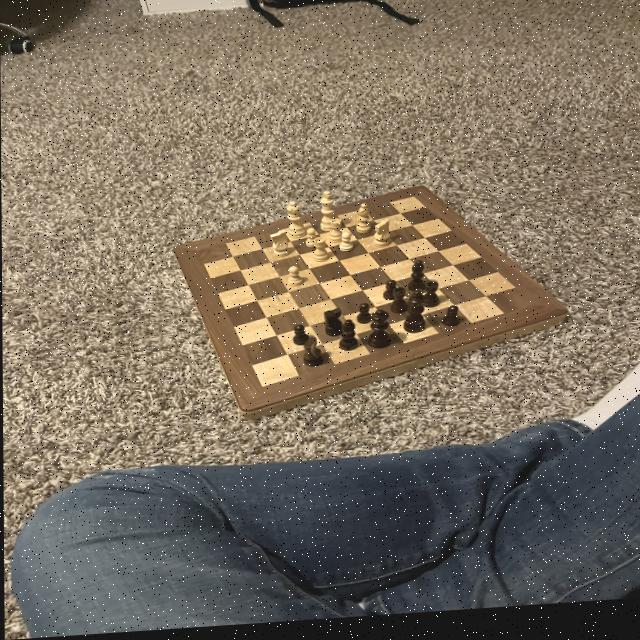bishop: (406, 264, 426, 299), (337, 323, 357, 358)
black-bishop: (402, 293, 428, 342)
black-king: (322, 310, 345, 343), (302, 340, 323, 371)
black-knight: (439, 311, 464, 335), (292, 326, 310, 351), (382, 284, 398, 307), (356, 306, 371, 330)
black-pawn: (362, 313, 394, 357)
black-queen: (421, 285, 441, 316), (390, 290, 407, 320)
black-rook: (355, 204, 372, 239)
white-bishop: (319, 194, 341, 238)
white-king: (370, 221, 394, 256), (269, 231, 291, 265)
white-knight: (337, 236, 357, 259), (287, 268, 304, 291), (304, 231, 320, 253)
white-pawn: (283, 204, 307, 244)
white-queen: (309, 240, 330, 269), (327, 219, 345, 249)
